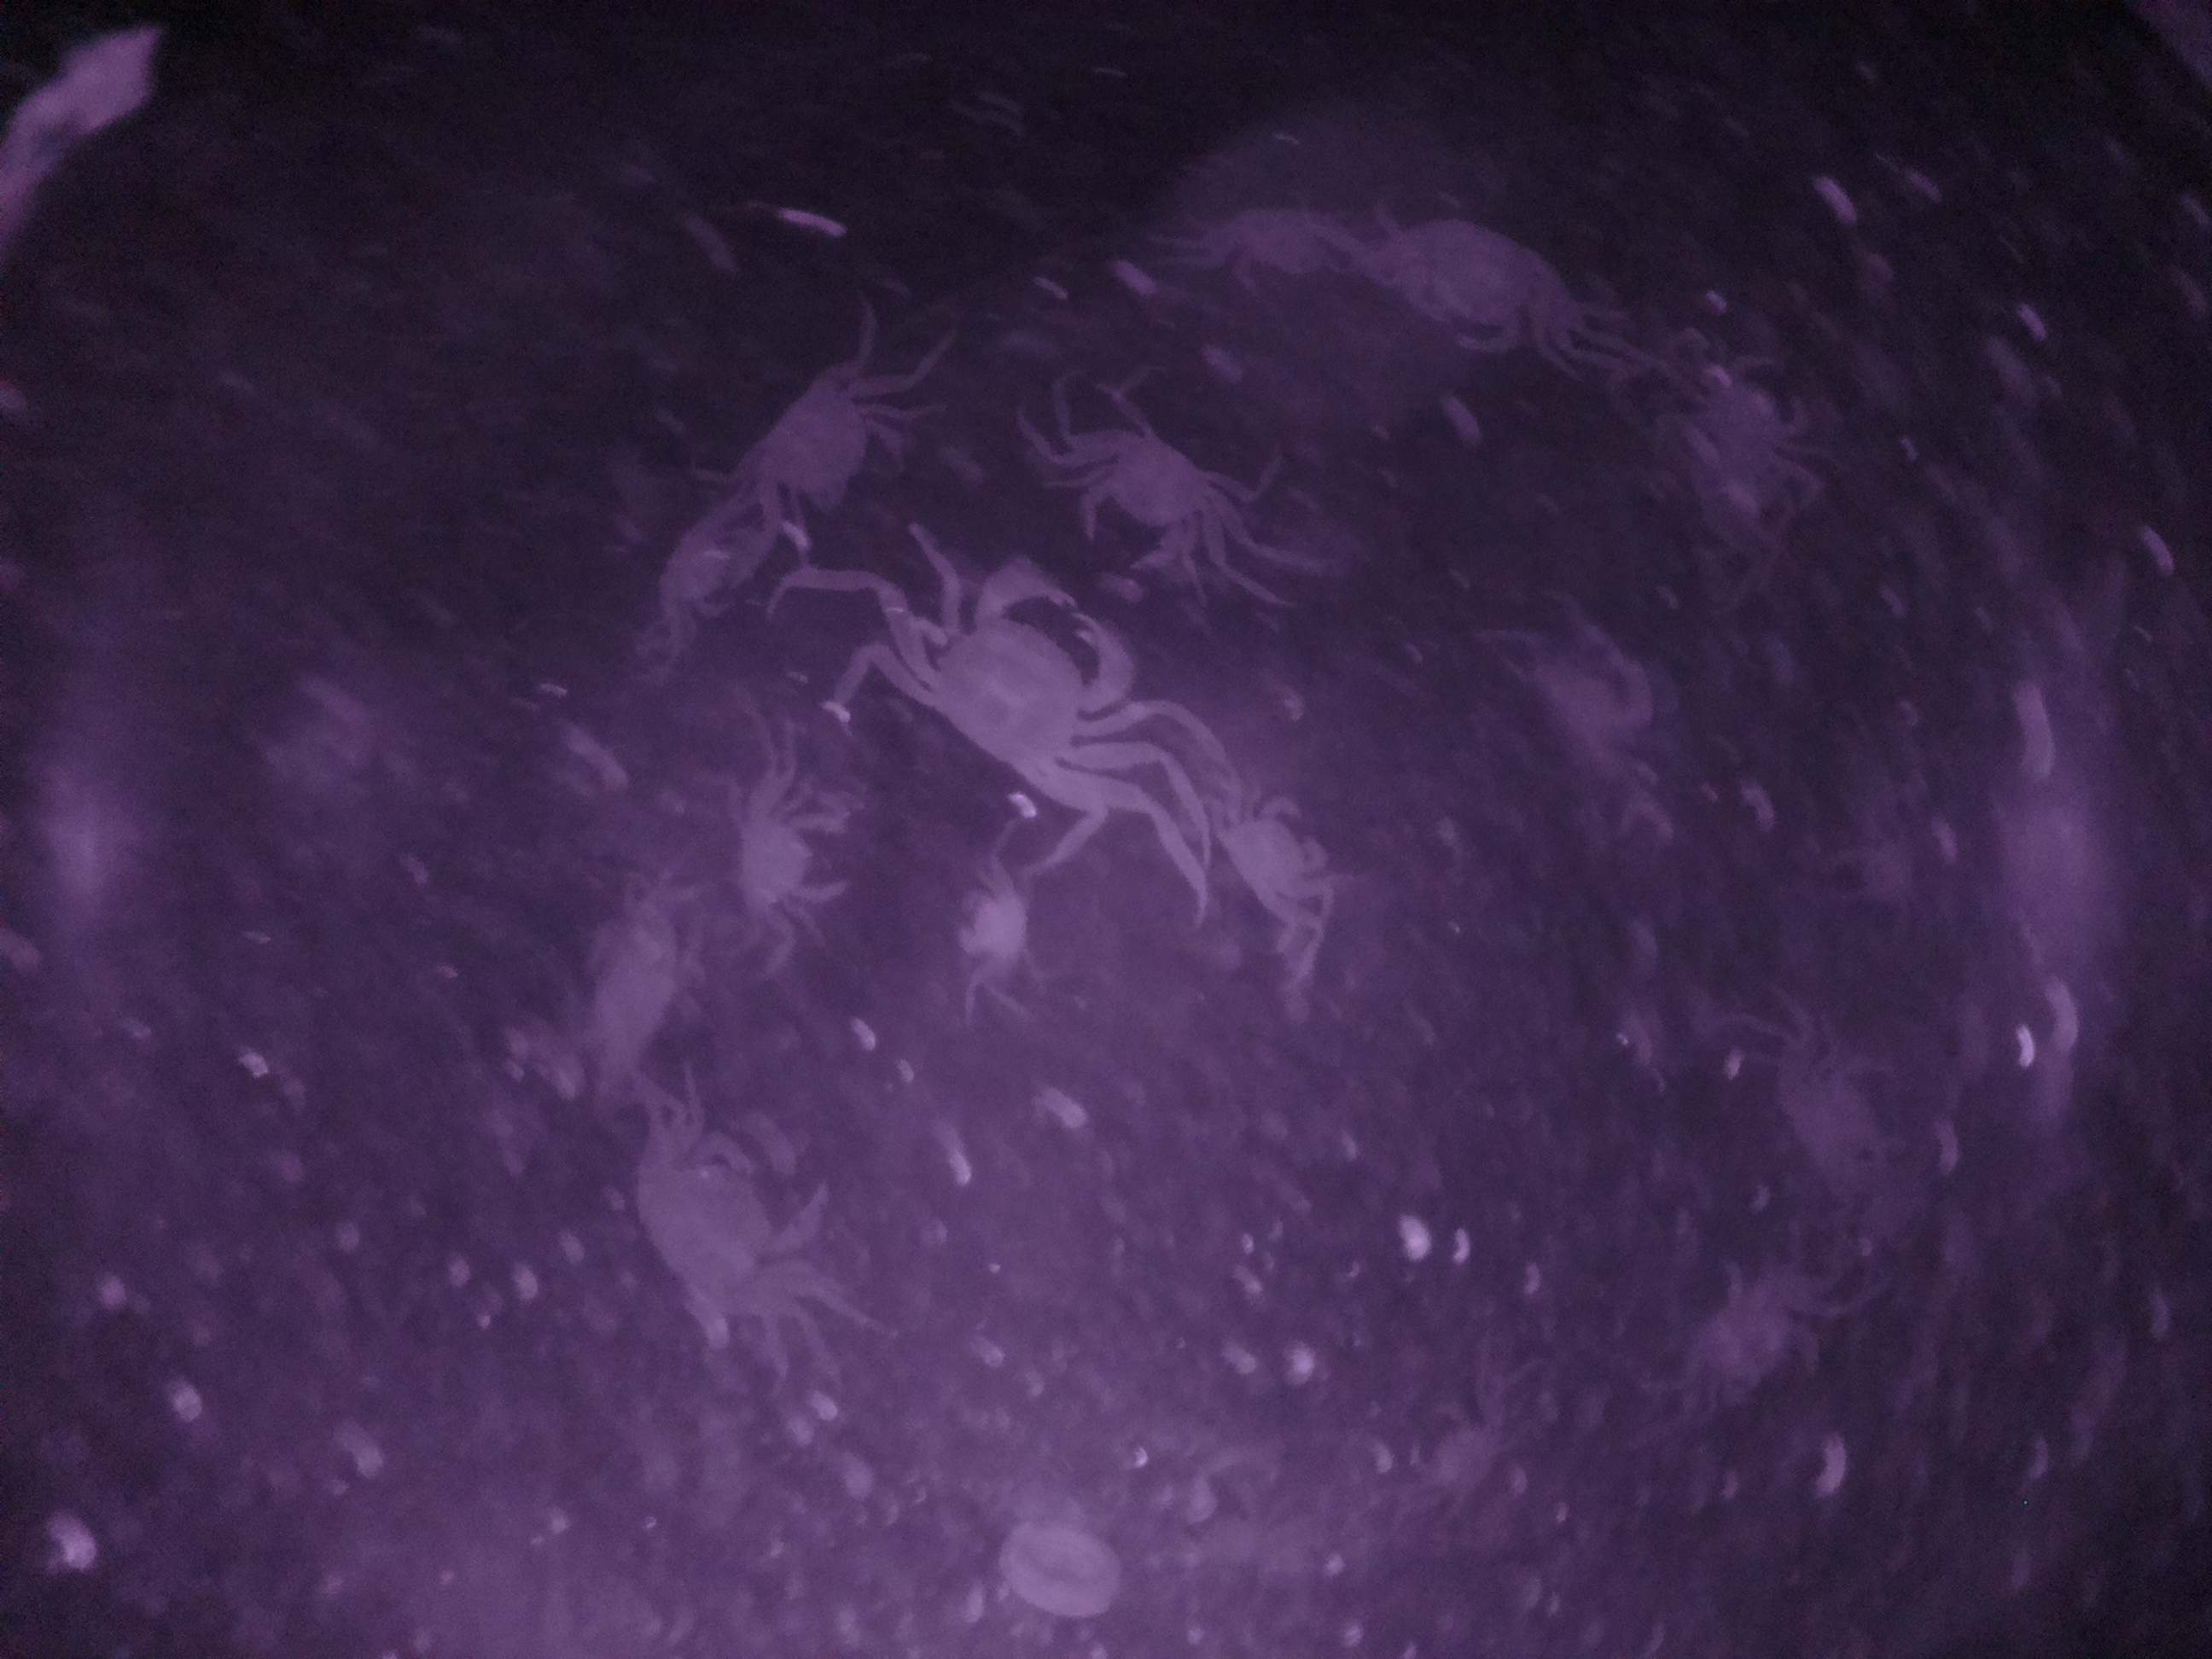Crab: (876, 563, 1144, 829), (1052, 415, 1280, 603), (732, 359, 918, 526), (711, 769, 862, 941), (1214, 772, 1343, 943)
